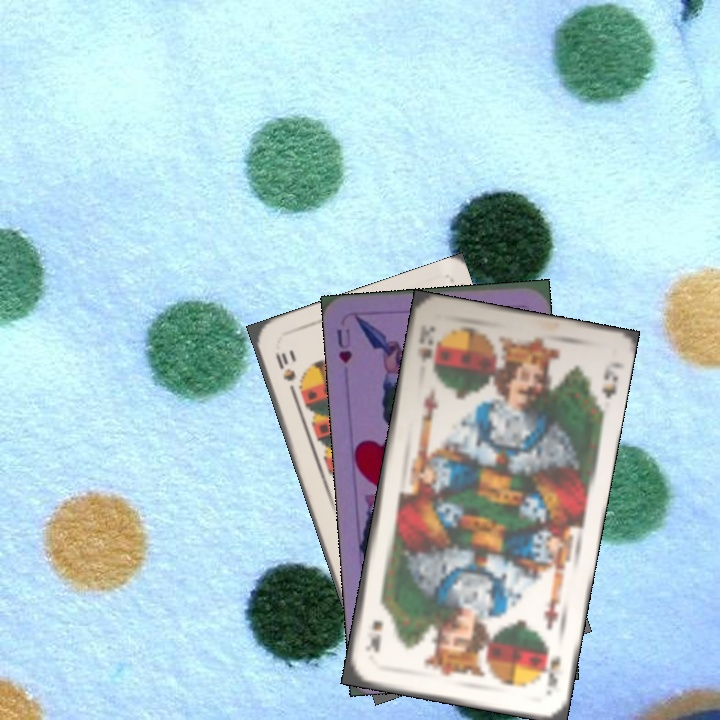HU: (332, 324, 354, 366)
S10: (271, 348, 299, 399)
SK: (539, 642, 564, 690), (414, 320, 438, 366)
